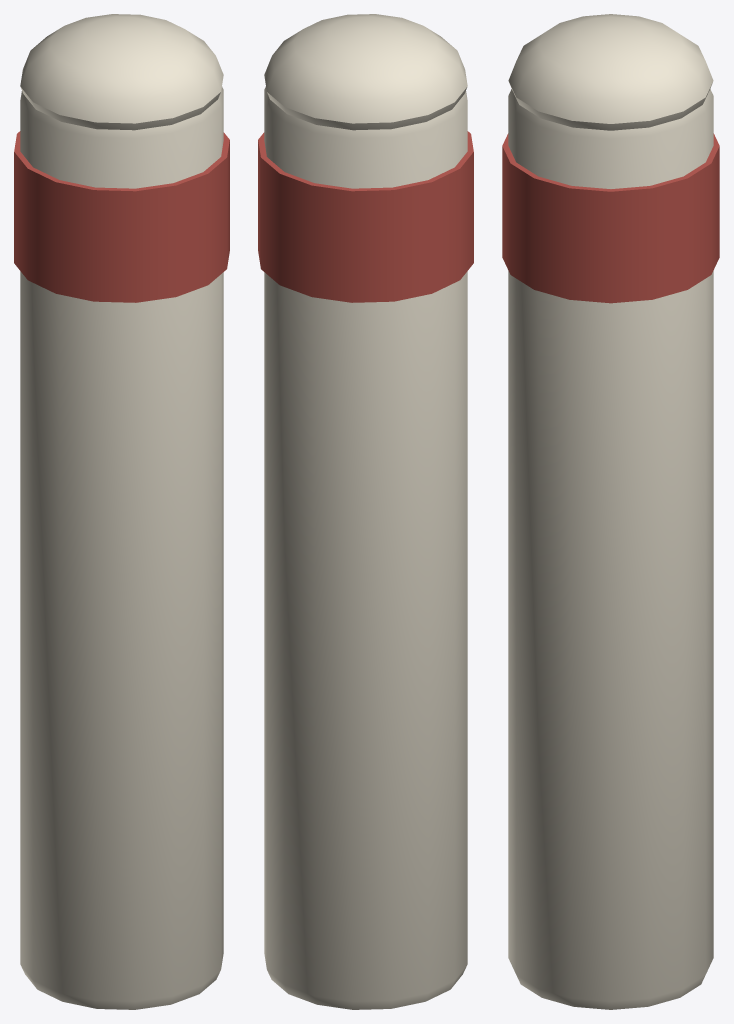
File: yardage_marker.glb
3 renders of one model, left to right at view 1: azimuth 30°, elevation 25°; view 2: azimuth 150°, elevation 25°; view 3: azimuth 270°, elevation 25°, orthographic.
Visible parts, largest first — view 1: yardage_marker_body; view 2: yardage_marker_body; view 3: yardage_marker_body.
Part boxes in pixels (x1,y1,x2,y2): yardage_marker_body: (14,14,229,1009); yardage_marker_body: (258,14,473,1009); yardage_marker_body: (502,14,719,1009).
Size of the model in its own units: 0.106 by 0.5075 by 0.106.
